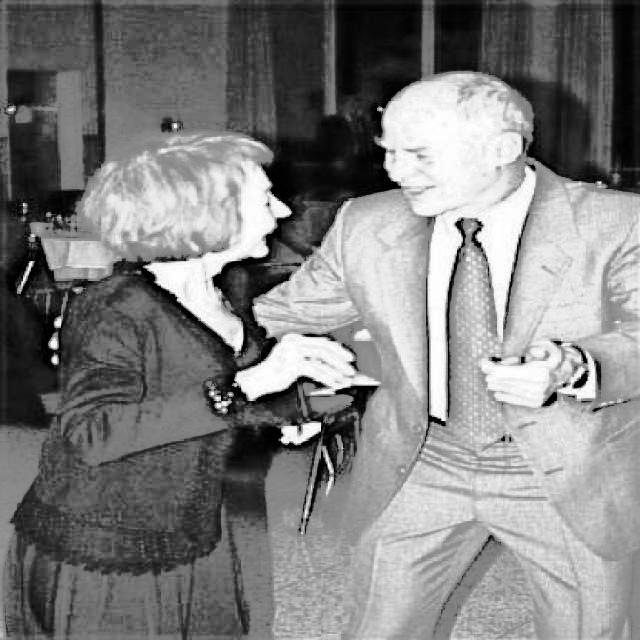Person: (252, 71, 637, 640), (8, 123, 361, 640)
